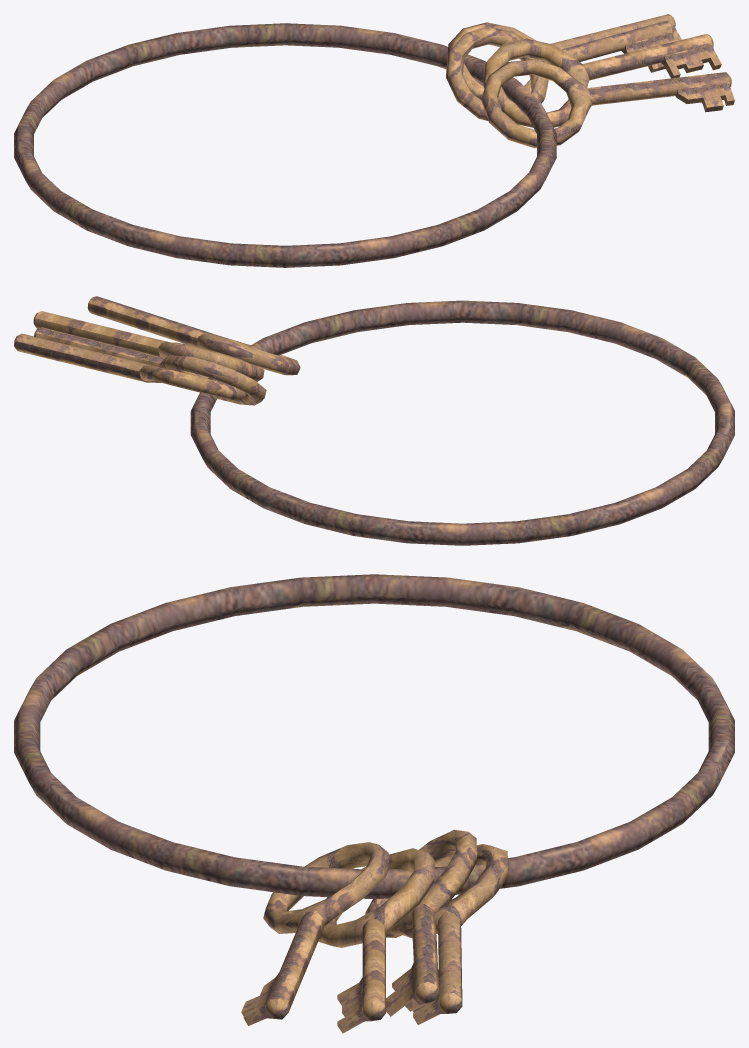
File: Key506.obj
The picture shows the model from 3 angles, top to bottom: view 1: azimuth 30°, elevation 25°; view 2: azimuth 150°, elevation 25°; view 3: azimuth 270°, elevation 25°; orthographic projection. The views are drawn at different scales.
Parts seen in each view (by area): view 1: rdmobj01; view 2: rdmobj01; view 3: rdmobj01.
Boxes of the visible parts, x1,y1,x2,y2 form: rdmobj01: [14, 14, 734, 267]; rdmobj01: [14, 296, 734, 545]; rdmobj01: [14, 574, 734, 1033].
Size of what is drawn, in the model's own units: 37.9 by 3.67 by 26.85.
1 material, 1 textured.
